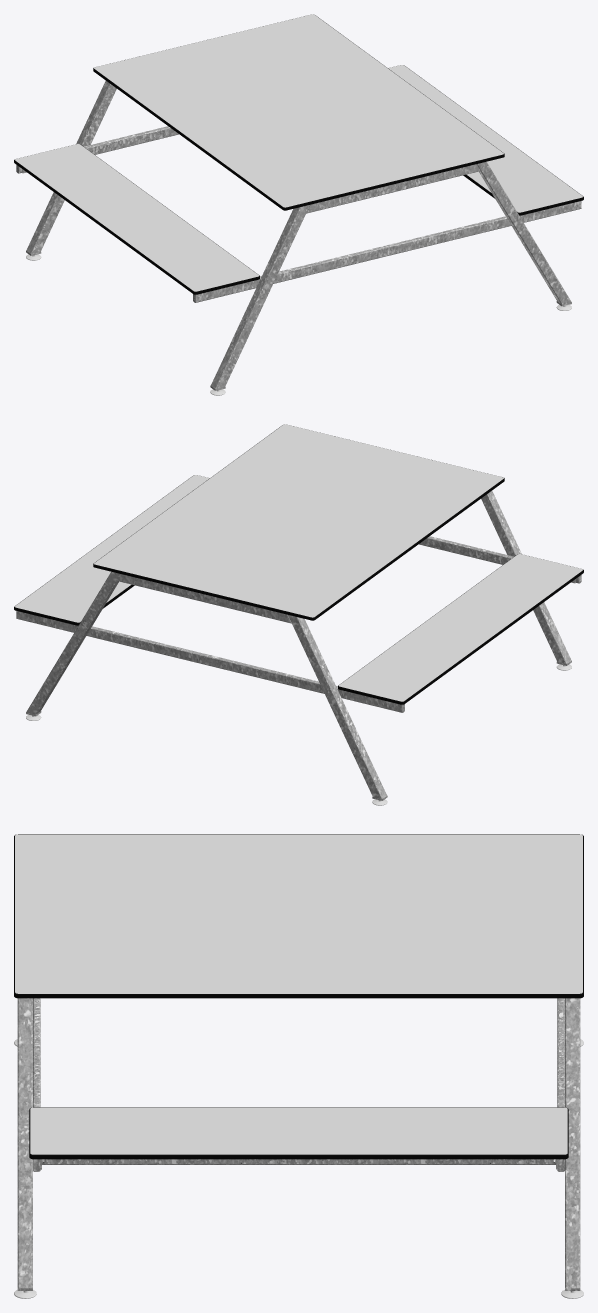
Rendered from rustik-team-outdoor-150.glb.
3 views of the same model, one above another, from view 1: azimuth 30°, elevation 25°; view 2: azimuth 150°, elevation 25°; view 3: azimuth 270°, elevation 25° (orthographic). The views are drawn at different scales.
Parts seen in each view (by area): view 1: Tischplatte, Sitzplatte, Gestell, HPL-Kante; view 2: Tischplatte, Sitzplatte, Gestell, HPL-Kante; view 3: Tischplatte, Sitzplatte, Gestell, HPL-Kante.
Boxes of the visible parts, x1,y1,x2,y2 form: Tischplatte: [94, 14, 503, 207]; Sitzplatte: [15, 65, 582, 291]; Gestell: [16, 80, 581, 390]; HPL-Kante: [14, 15, 583, 294]; Tischplatte: [94, 424, 503, 617]; Sitzplatte: [15, 475, 582, 701]; Gestell: [16, 490, 581, 800]; HPL-Kante: [14, 425, 583, 704]; Tischplatte: [15, 834, 582, 993]; Sitzplatte: [30, 1107, 567, 1154]; Gestell: [17, 998, 580, 1290]; HPL-Kante: [14, 834, 583, 1159].
Bounding box in the file's own units: 1.76 × 0.74 × 1.5.
Materials: 3 (1 with a texture image).
